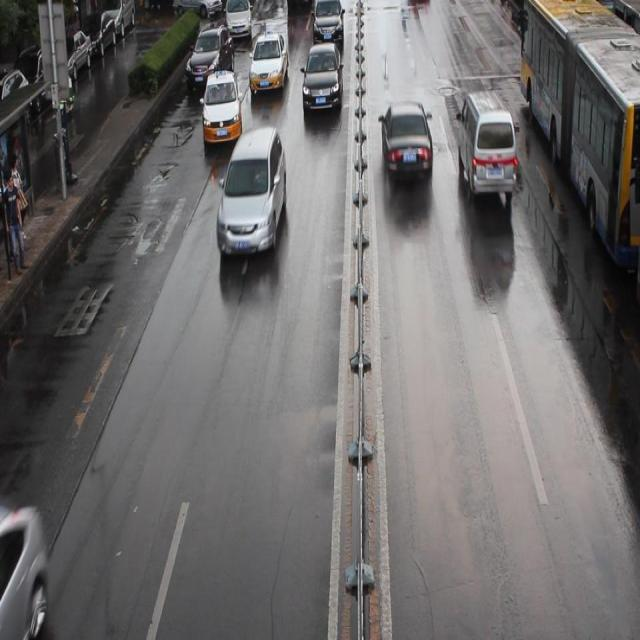bus: (287, 1, 314, 10)
car: (1, 501, 50, 640), (379, 100, 432, 181), (300, 41, 342, 111), (202, 71, 242, 144), (186, 26, 236, 84), (249, 31, 288, 91), (310, 1, 343, 45), (225, 1, 252, 40)
truck: (216, 126, 287, 254), (458, 93, 516, 193)
van: (518, 1, 640, 268)
